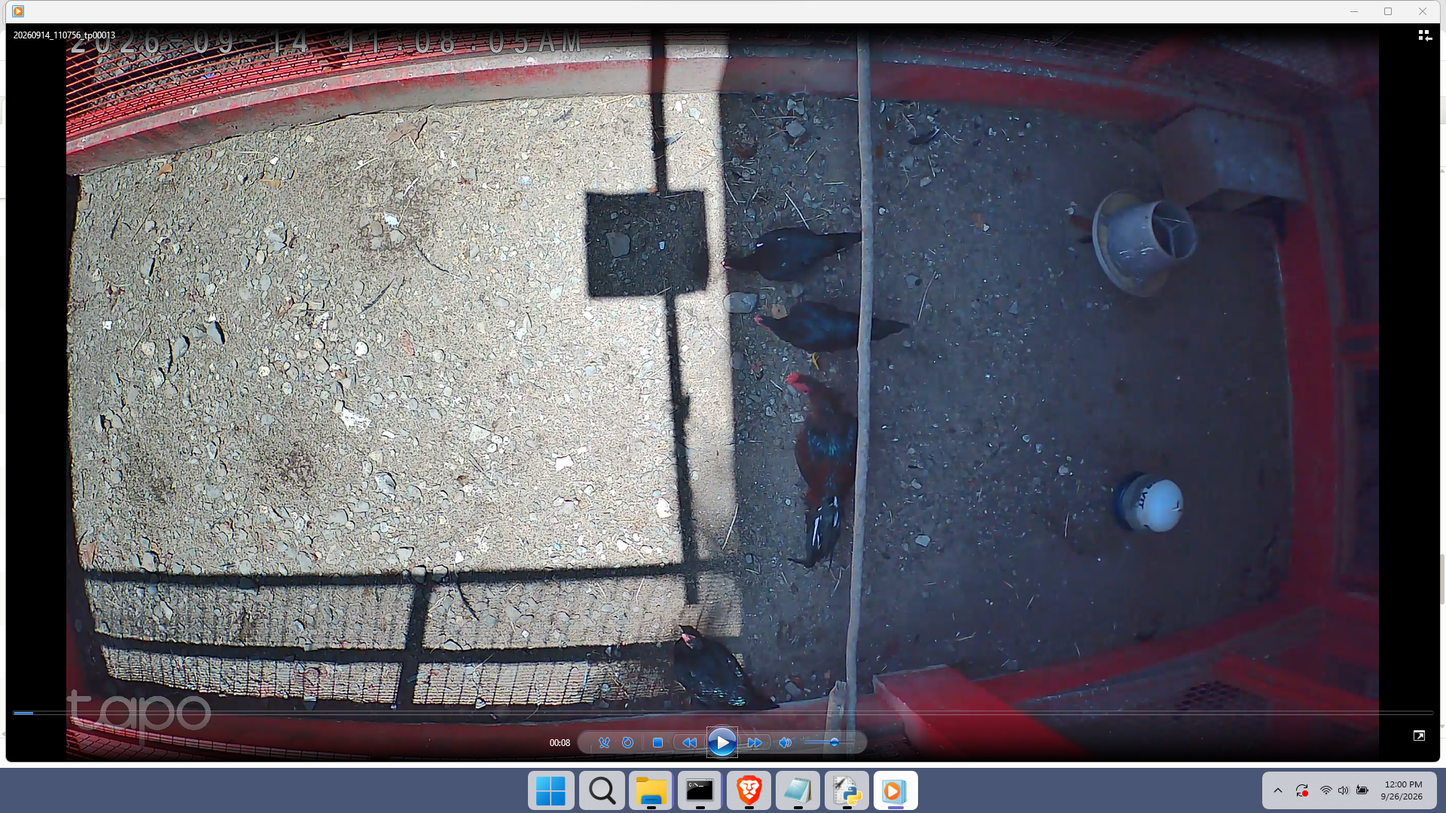Chicken: (751, 298, 916, 373), (718, 226, 862, 284)
Drinker: (1113, 469, 1183, 532)
Feeder: (1091, 183, 1199, 298)
Leg_Band_Yellow: (812, 352, 821, 369)
Rooster: (784, 370, 859, 579)
